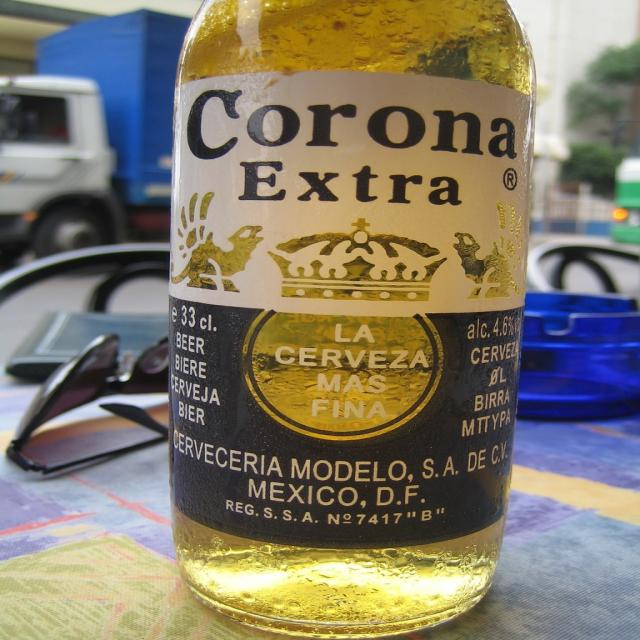corona: (169, 70, 533, 551)
